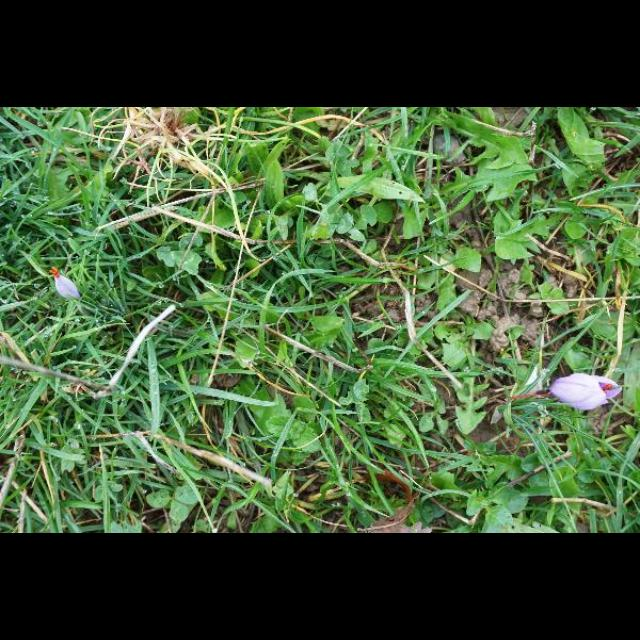flower: (550, 372, 624, 412), (50, 266, 82, 302)
